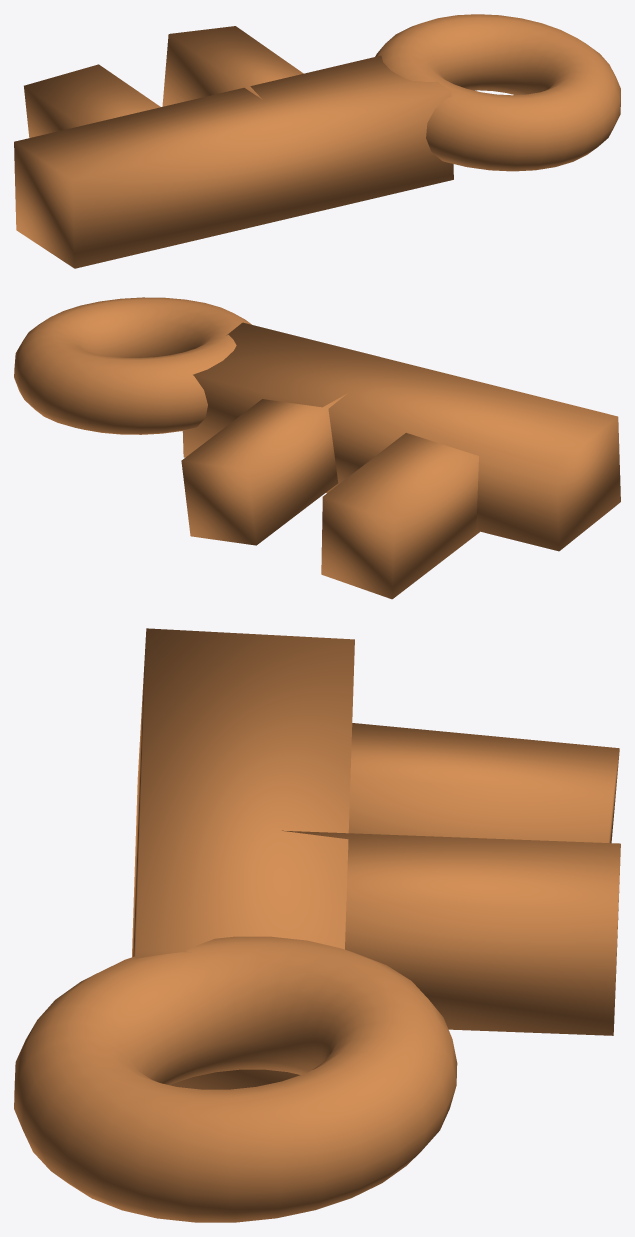
Rendered from key_vr.obj.
3 renders of one model, top to bottom at view 1: azimuth 30°, elevation 25°; view 2: azimuth 150°, elevation 25°; view 3: azimuth 270°, elevation 25°, orthographic. The views are drawn at different scales.
Parts seen in each view (by area): view 1: p.0054, p.0051, p.0056, p.0055; view 2: p.0054, p.0051, p.0055, p.0056; view 3: p.0051, p.0054, p.0056, p.0055.
Part boxes in pixels (x1,y1,x2,y2): p.0054: (14, 55, 453, 268); p.0051: (375, 14, 620, 171); p.0056: (162, 26, 303, 106); p.0055: (24, 64, 160, 137); p.0054: (182, 322, 620, 551); p.0051: (14, 297, 251, 434); p.0055: (321, 433, 479, 599); p.0056: (181, 393, 347, 545); p.0051: (14, 936, 457, 1222); p.0054: (132, 628, 354, 1089); p.0056: (282, 830, 620, 1035); p.0055: (348, 723, 619, 843).
Bounding box in the file's own units: 2.07 × 0.389 × 1.12.
